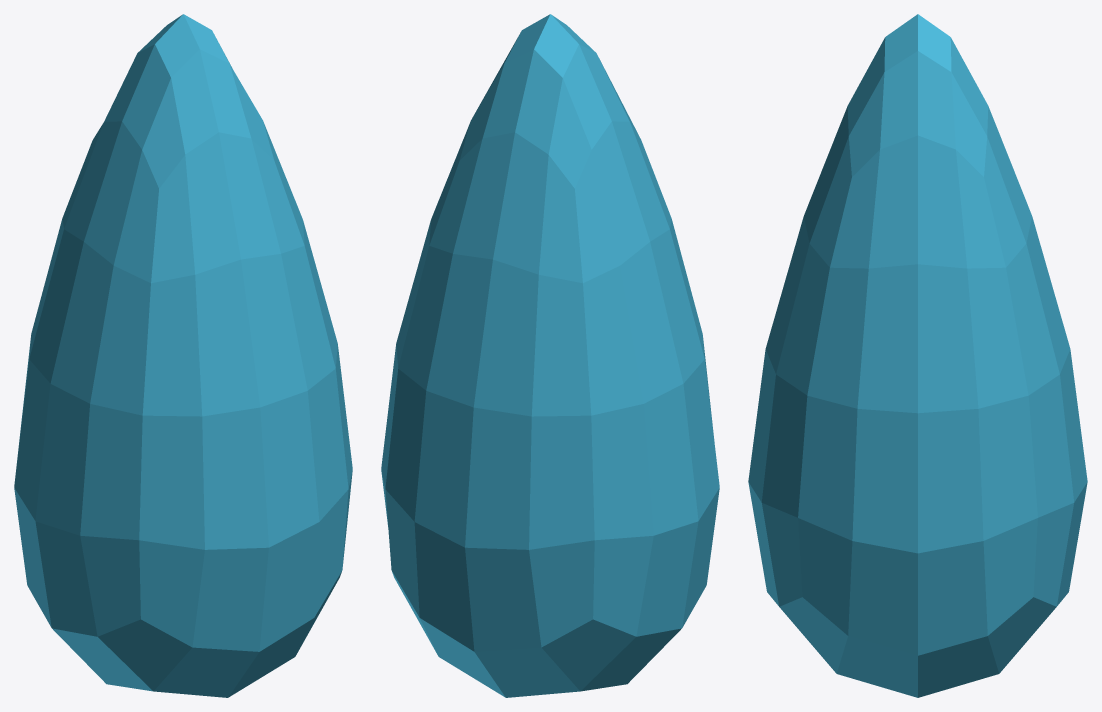
The model's file is Lagrima_low.fbx.
3 renders of one model, left to right at view 1: azimuth 30°, elevation 25°; view 2: azimuth 150°, elevation 25°; view 3: azimuth 270°, elevation 25°, orthographic.
Parts seen in each view (by area): view 1: Lagrima_low; view 2: Lagrima_low; view 3: Lagrima_low.
Part boxes in pixels (box(x1,y1,x2,y2)): Lagrima_low: box(14, 14, 352, 697); Lagrima_low: box(381, 14, 719, 697); Lagrima_low: box(748, 14, 1087, 697).
Bounding box in the file's own units: 13.88 × 30.22 × 13.88.
